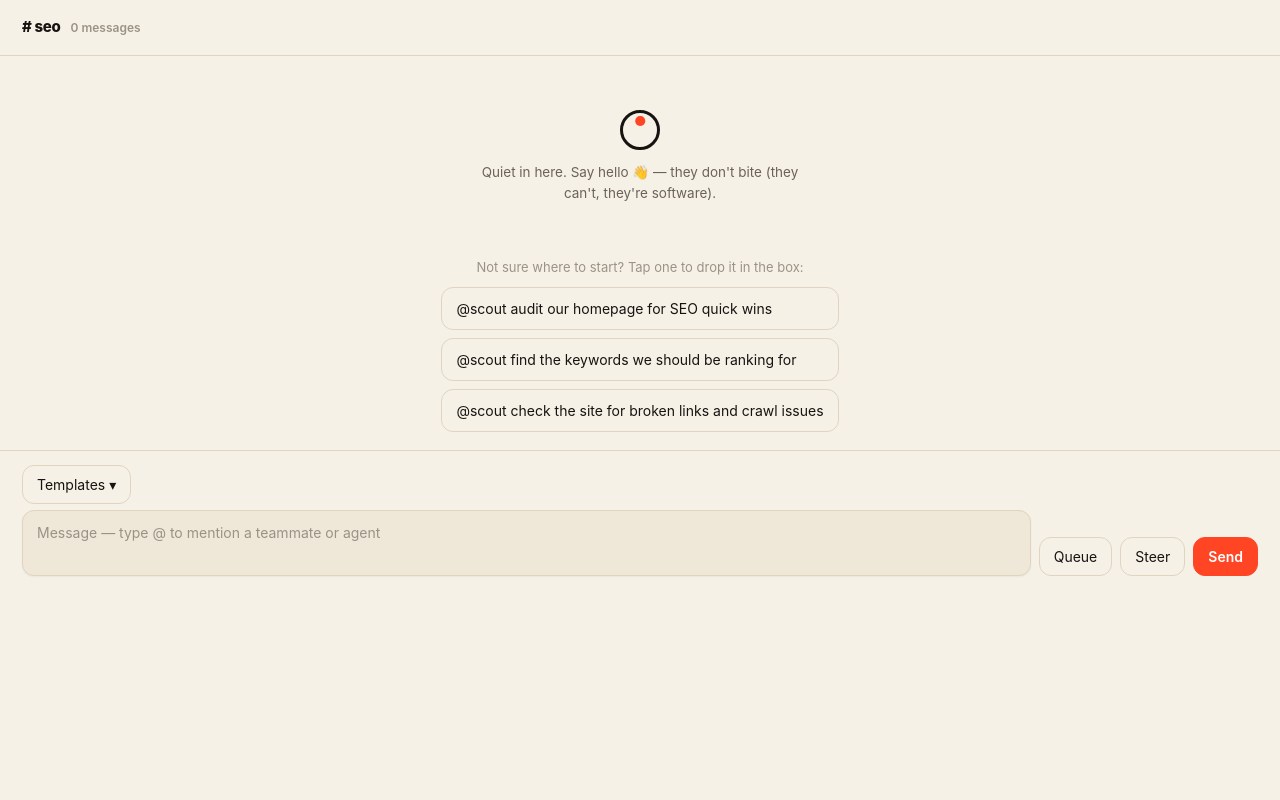
Test: MessagePane › prefills the composer when a starter prompt is tapped
Step 1. Click the button "@scout audit our homepage for SEO quick wins" → click(640, 309), box [441, 287, 839, 330]
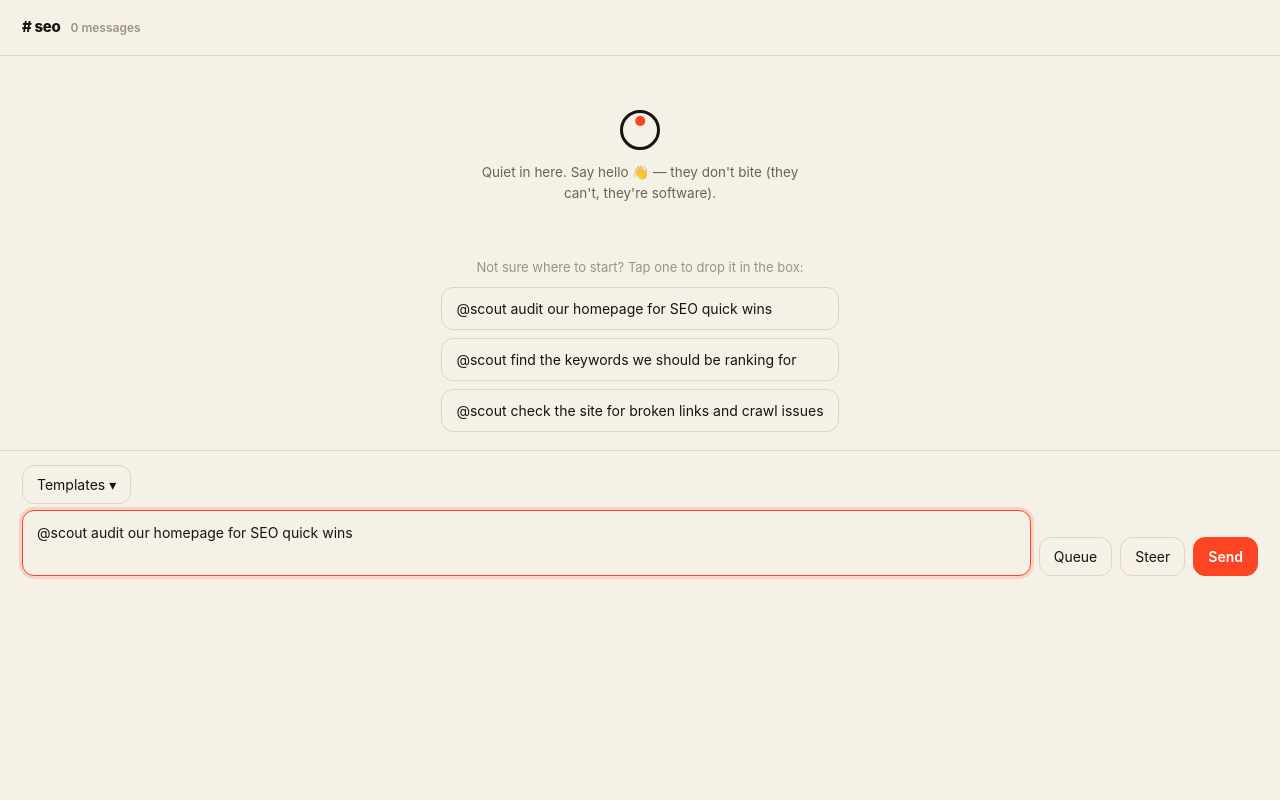
Result: the text box holds "@scout audit our homepage for SEO quick wins" at [22, 510, 1031, 576]
